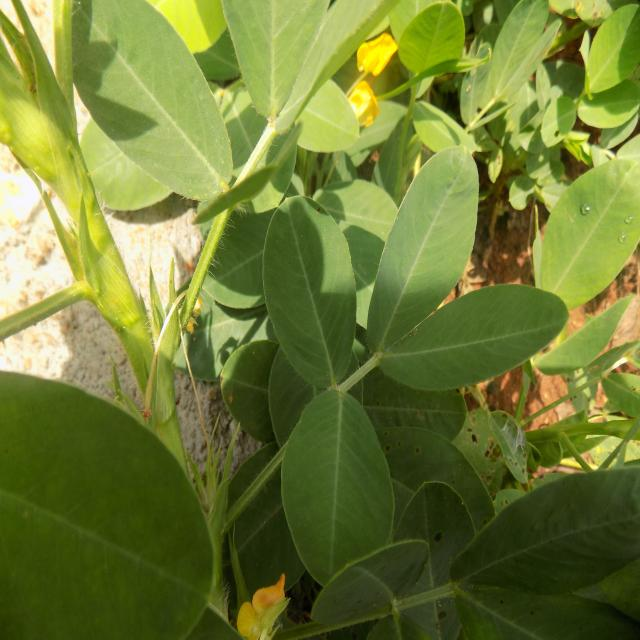Ground nut_healthy: (366, 140, 481, 366), (280, 380, 396, 588), (388, 282, 566, 386), (267, 189, 352, 393)
